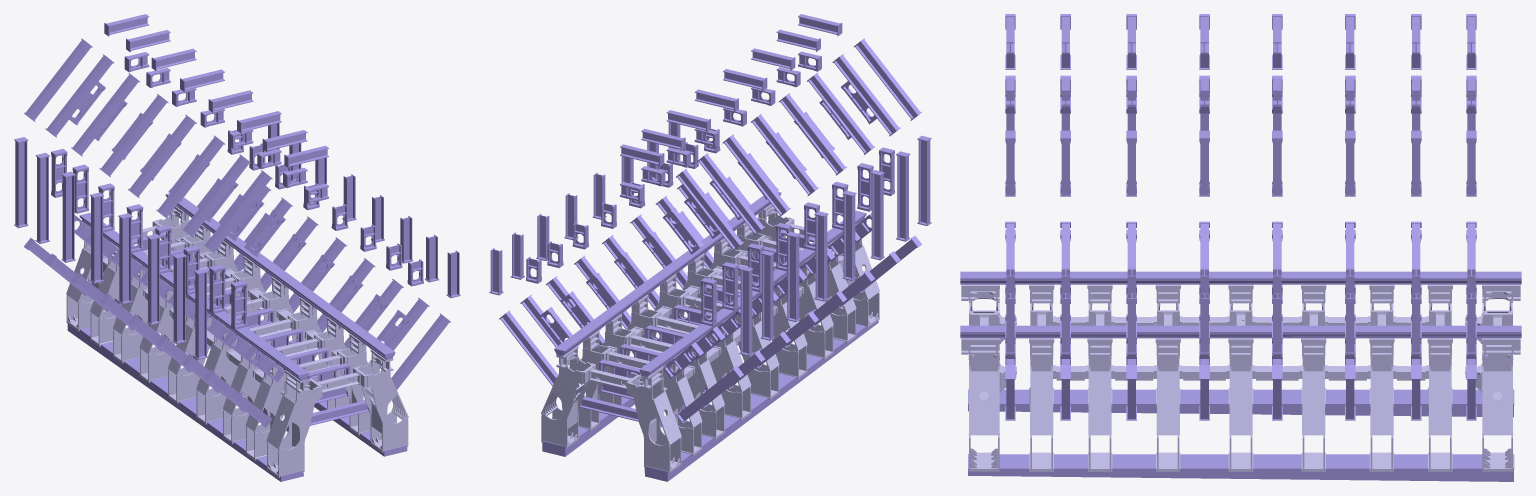
The model's file is QA-Support-cut3.glb.
3 renders of one model, left to right at view 1: azimuth 30°, elevation 25°; view 2: azimuth 150°, elevation 25°; view 3: azimuth 270°, elevation 25°, orthographic. The views are drawn at different scales.
Parts seen in each view (by area): view 1: S_Mesh_0-157, S_Mesh_1-143, S_Mesh_2-071; view 2: S_Mesh_0-157, S_Mesh_1-143, S_Mesh_2-071; view 3: S_Mesh_1-143, S_Mesh_0-157, S_Mesh_2-071.
Boxes of the visible parts, x1=… form: S_Mesh_0-157: x1=14, y1=14, x2=460, y2=431; S_Mesh_1-143: x1=66, y1=206, x2=408, y2=477; S_Mesh_2-071: x1=67, y1=193, x2=407, y2=481; S_Mesh_0-157: x1=489, y1=14, x2=931, y2=427; S_Mesh_1-143: x1=541, y1=204, x2=879, y2=473; S_Mesh_2-071: x1=542, y1=191, x2=878, y2=481; S_Mesh_1-143: x1=961, y1=284, x2=1520, y2=471; S_Mesh_0-157: x1=1005, y1=14, x2=1476, y2=420; S_Mesh_2-071: x1=960, y1=271, x2=1521, y2=481.
Size of the model in its own units: 18.28 by 20.83 by 26.42.
